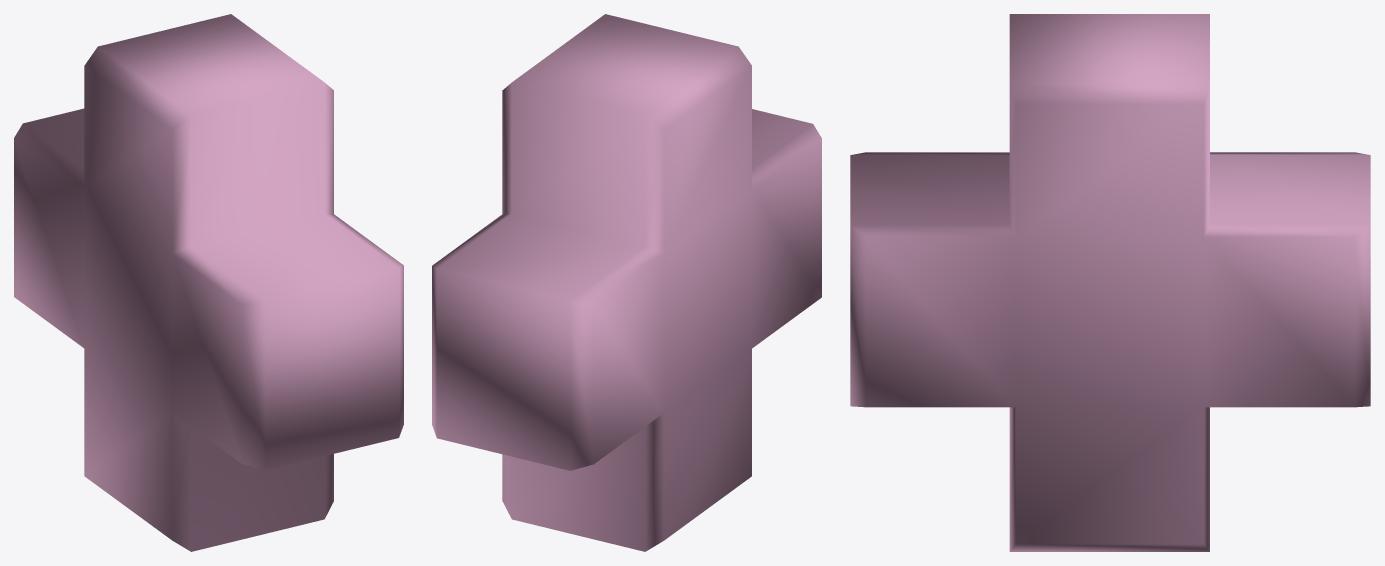
File: healthRelic.fbx
3 views of the same model, side by side, from view 1: azimuth 30°, elevation 25°; view 2: azimuth 150°, elevation 25°; view 3: azimuth 270°, elevation 25° (orthographic). The views are drawn at different scales.
Visible parts, largest first — view 1: healthRelic; view 2: healthRelic; view 3: healthRelic.
Boxes of the visible parts, x1,y1,x2,y2 form: healthRelic: (14,14,403,551); healthRelic: (432,14,821,551); healthRelic: (850,14,1370,551).
Size of the model in its own units: 1.73 by 4.46 by 4.49.
